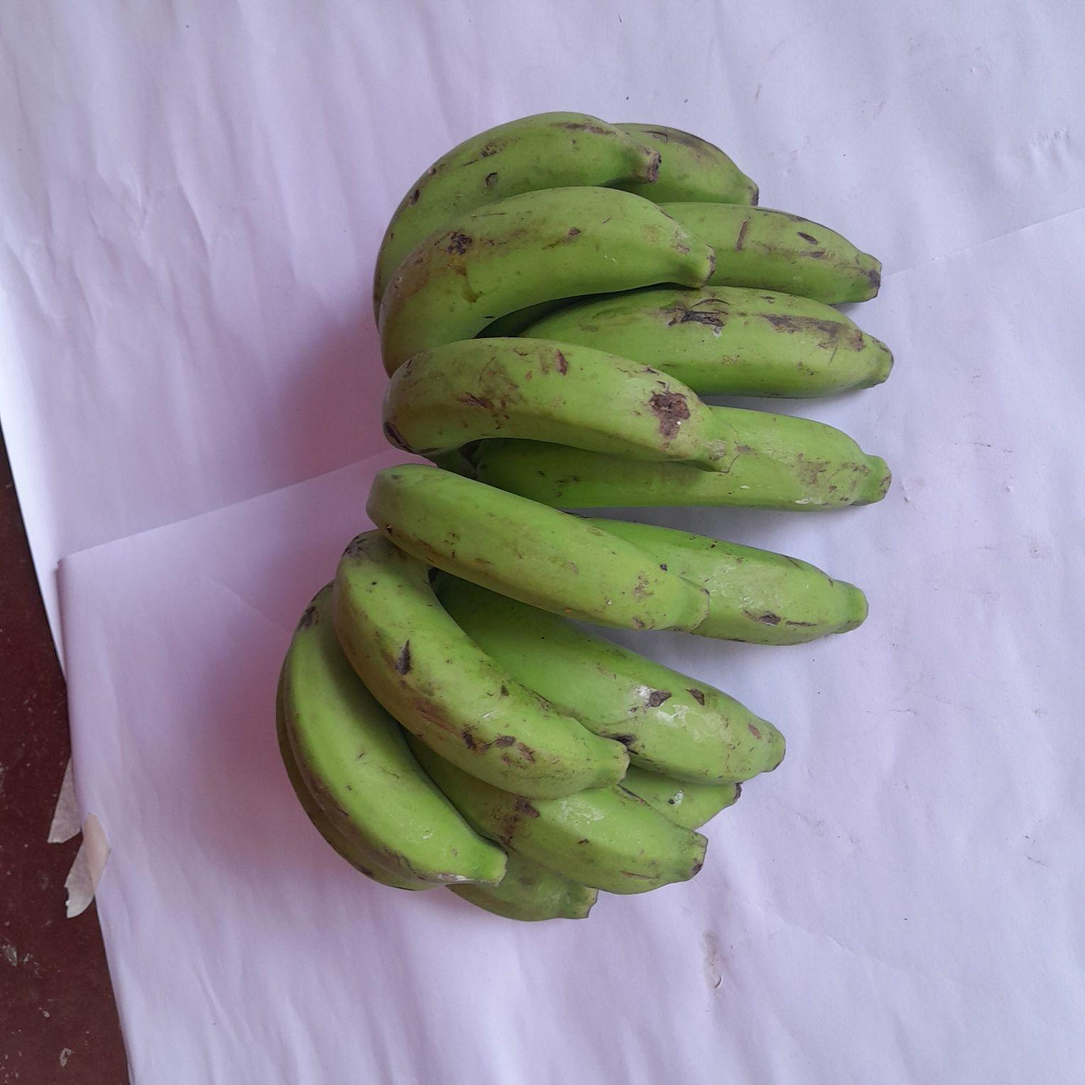Banana Unripe: (333, 530, 629, 798), (434, 572, 784, 784), (282, 586, 506, 884), (379, 186, 714, 373), (373, 112, 661, 317), (367, 464, 708, 630), (384, 337, 735, 470), (411, 740, 708, 894), (475, 407, 890, 511), (523, 286, 892, 397), (587, 519, 869, 644), (661, 201, 882, 305), (615, 123, 759, 206)
